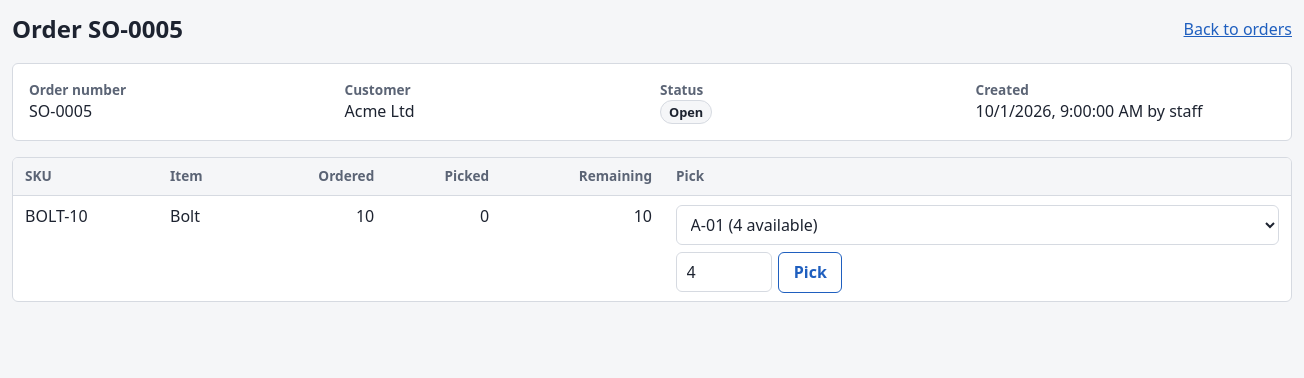
OrderDetailPage › defaults the pick quantity, submits the pick payload and updates the order
expect the field named "Pick quantity for BOLT-10" holds "4": met, box top-left (676, 252), bottom-right (772, 292)
Select "B-02 (50 available)" in the dropdown: (978, 225) top-left (676, 205), bottom-right (1279, 245)
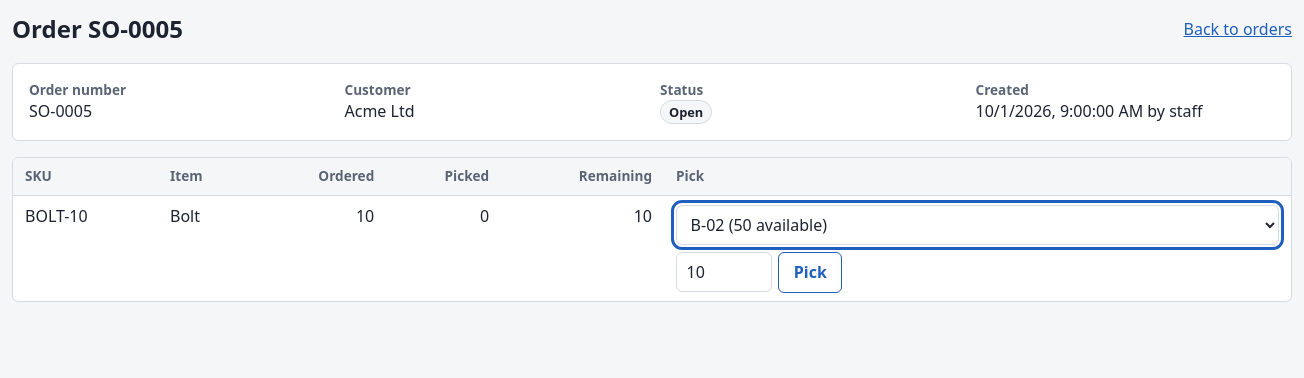
expect the field named "Pick quantity for BOLT-10" holds "10": met, box top-left (676, 252), bottom-right (772, 292)
Select "A-01 (4 available)" in the dropdown: (978, 225) top-left (676, 205), bottom-right (1279, 245)
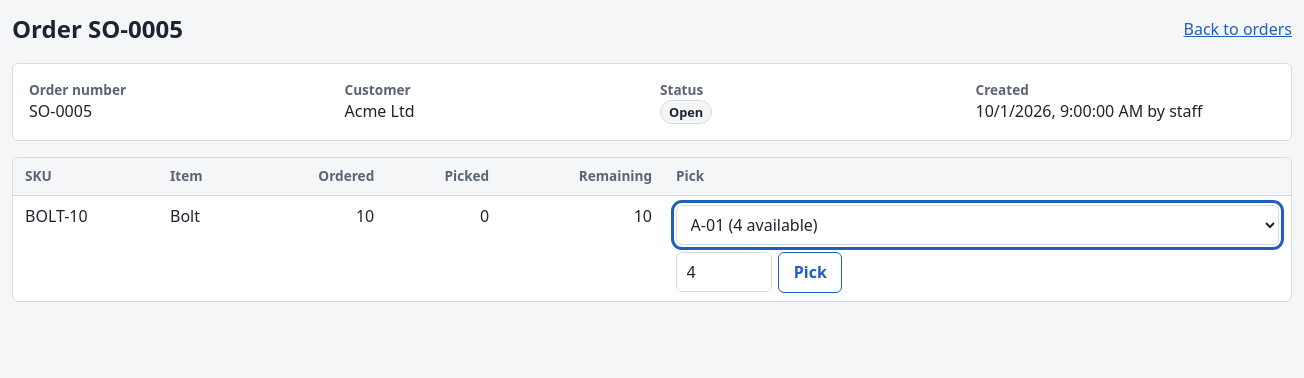
expect the field named "Pick quantity for BOLT-10" holds "4": met, box top-left (676, 252), bottom-right (772, 292)
Click the button with aria-label "Pick BOLT-10": (810, 272) top-left (778, 252), bottom-right (842, 293)
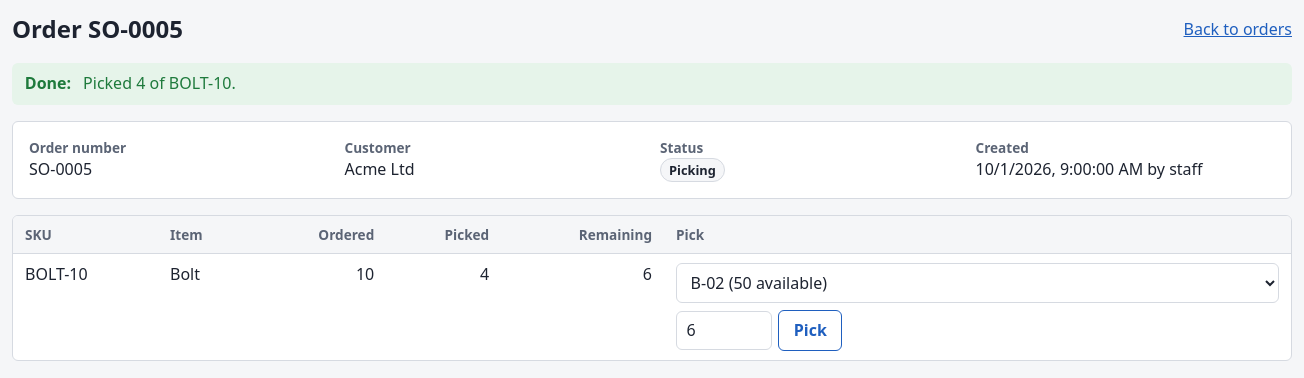
expect the text "Picked 4 of BOLT-10." is shown: met, box top-left (83, 72), bottom-right (236, 94)
expect the text "Picking" is shown: met, box top-left (660, 158), bottom-right (725, 182)
expect the field named "Pick quantity for BOLT-10" holds "6": met, box top-left (676, 311), bottom-right (772, 350)
